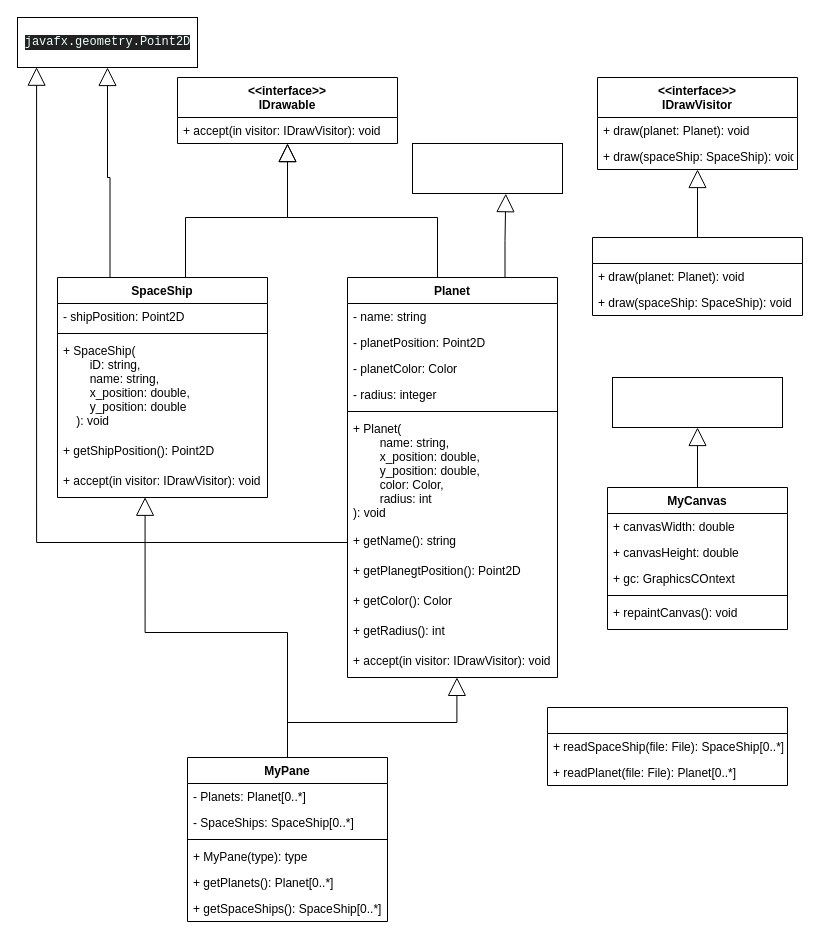
The diagram is 820 pixels wide and 942 high, and some of its shapes have lost their labels. The box of each missing label's shape, as (x1, y1, x2, y2) in pixels:
DrawVisitor: (592, 236, 802, 316)
FileIO: (546, 706, 788, 786)
javafx.scene.canvas.Canvas: (612, 376, 782, 428)
javaFX.scene.paint.Color: (412, 142, 562, 194)
